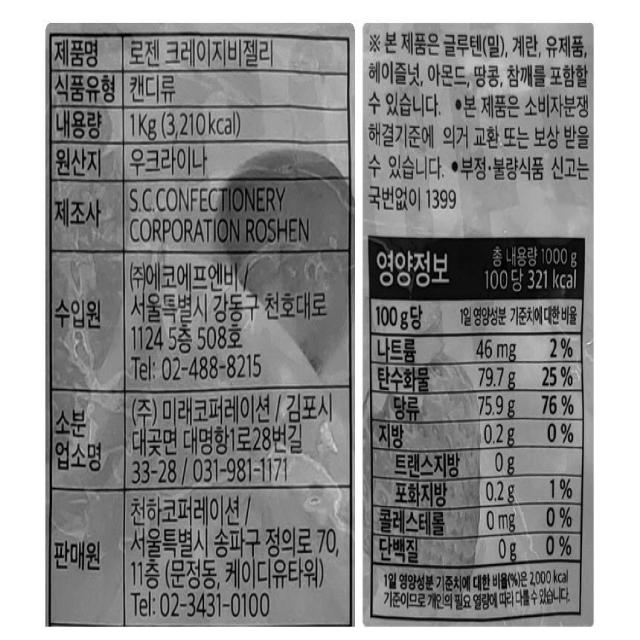Nutrition Label: (354, 228, 598, 634)
